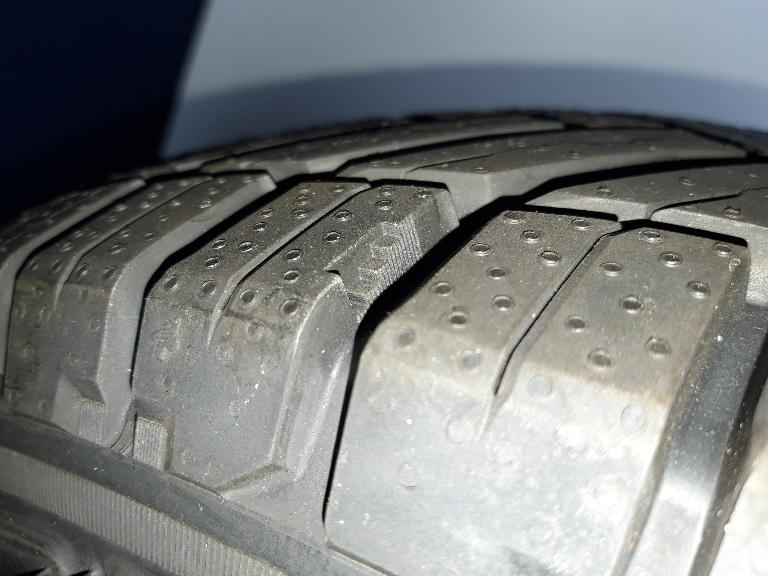temoin:100: (321, 211, 426, 326)
